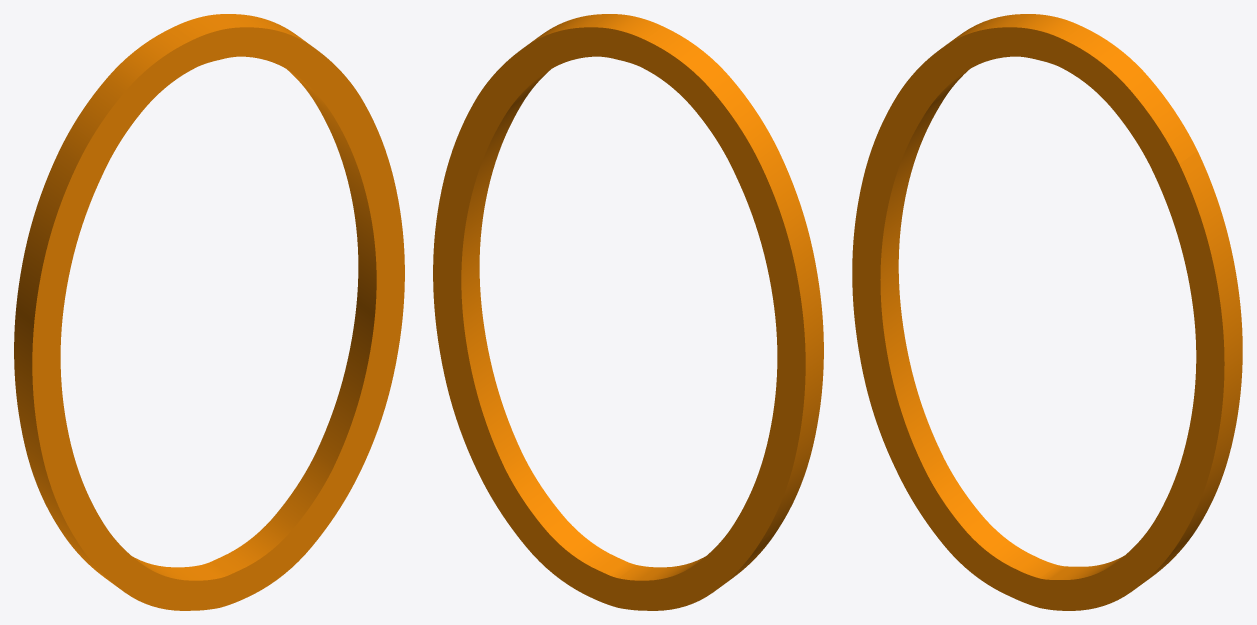
The picture shows the model from 3 angles, left to right: view 1: azimuth 30°, elevation 25°; view 2: azimuth 150°, elevation 25°; view 3: azimuth 330°, elevation 25°; orthographic projection.
Parts seen in each view (by area): view 1: O; view 2: O; view 3: O.
Boxes of the visible parts, left/top/right/bottom form: O: left=14, top=14, right=404, bottom=610; O: left=433, top=14, right=823, bottom=610; O: left=852, top=14, right=1242, bottom=610.
Bounding box in the file's own units: 58.89 × 87.24 × 5.
